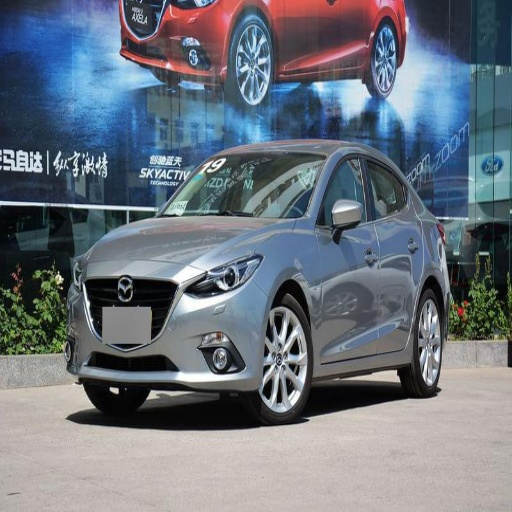back_glass: (363, 152, 422, 352)
back_right_light: (68, 258, 272, 390), (122, 8, 230, 73)
front_bumper: (162, 151, 324, 218)
front_glass: (316, 150, 379, 363), (283, 3, 322, 58)
front_left_door: (181, 254, 261, 297)
front_right_light: (90, 216, 296, 271)
trunk: (247, 293, 310, 422), (404, 289, 442, 397), (231, 15, 274, 97), (368, 24, 399, 99), (86, 382, 146, 420)
